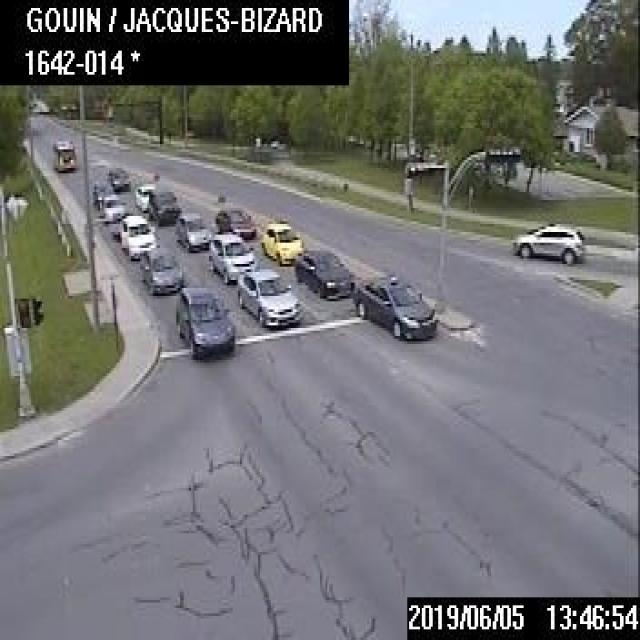vehicle: (352, 273, 435, 338), (174, 285, 233, 356), (235, 267, 302, 325), (293, 248, 353, 296), (511, 222, 582, 262), (208, 233, 255, 281), (138, 249, 182, 293), (259, 220, 301, 262), (119, 213, 155, 258), (173, 211, 210, 250), (213, 207, 255, 238), (146, 188, 179, 224), (52, 139, 75, 169), (90, 180, 114, 208), (102, 193, 125, 221), (106, 167, 130, 190), (133, 182, 152, 210)
